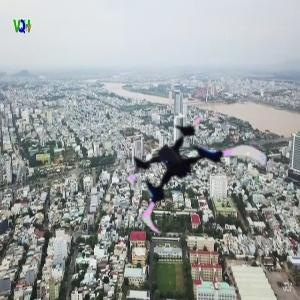drone: (115, 105, 253, 243)
